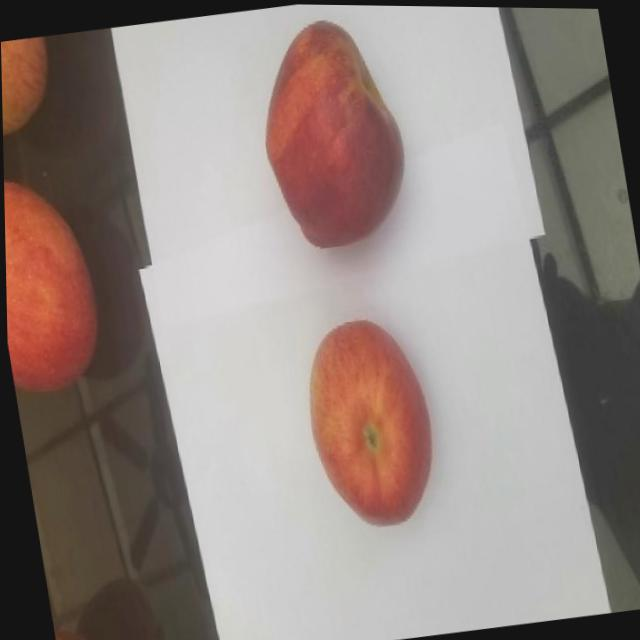Apple: (242, 10, 420, 256), (293, 307, 448, 535), (3, 168, 115, 396), (1, 35, 62, 145)
